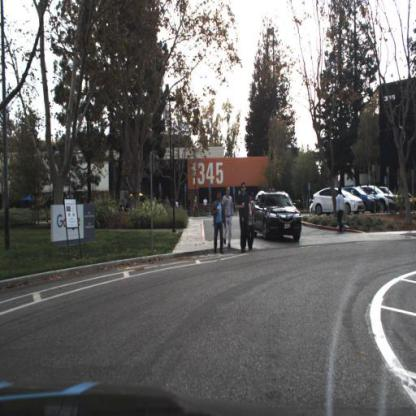car: (250, 190, 303, 243), (311, 187, 366, 215), (361, 183, 401, 212), (342, 184, 383, 212), (375, 184, 397, 216)
pedestrian: (236, 183, 253, 255), (211, 192, 228, 256), (222, 185, 237, 249), (221, 194, 235, 260), (224, 185, 232, 251), (335, 187, 346, 234)
